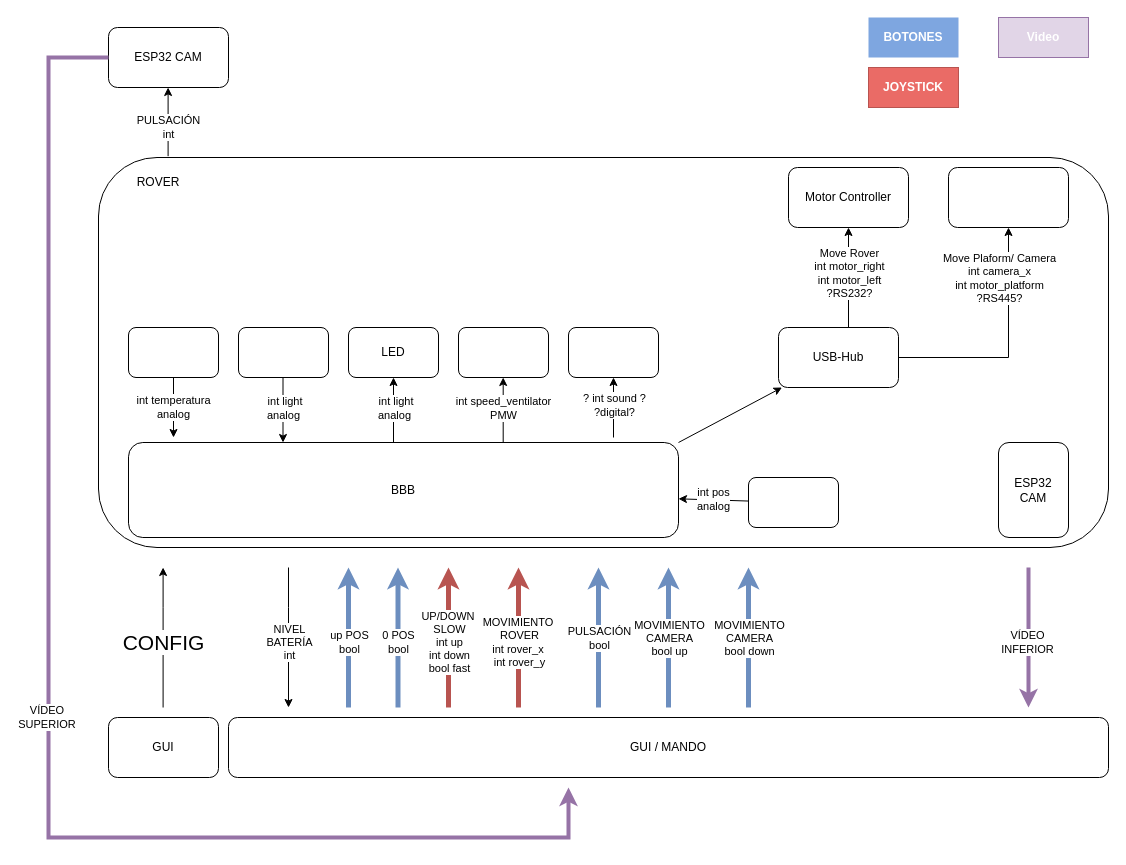
Image size: 1126x865. Some labels were removed from this diagram. Each missing label, with the box of its shape:
Batteria: (238, 326, 328, 378)
FPGA: (948, 166, 1068, 228)
Sensor Pos 0: (748, 476, 838, 528)
Speaker: (568, 326, 658, 378)
Temperatura: (128, 326, 218, 378)
Ventilator: (458, 326, 548, 378)
